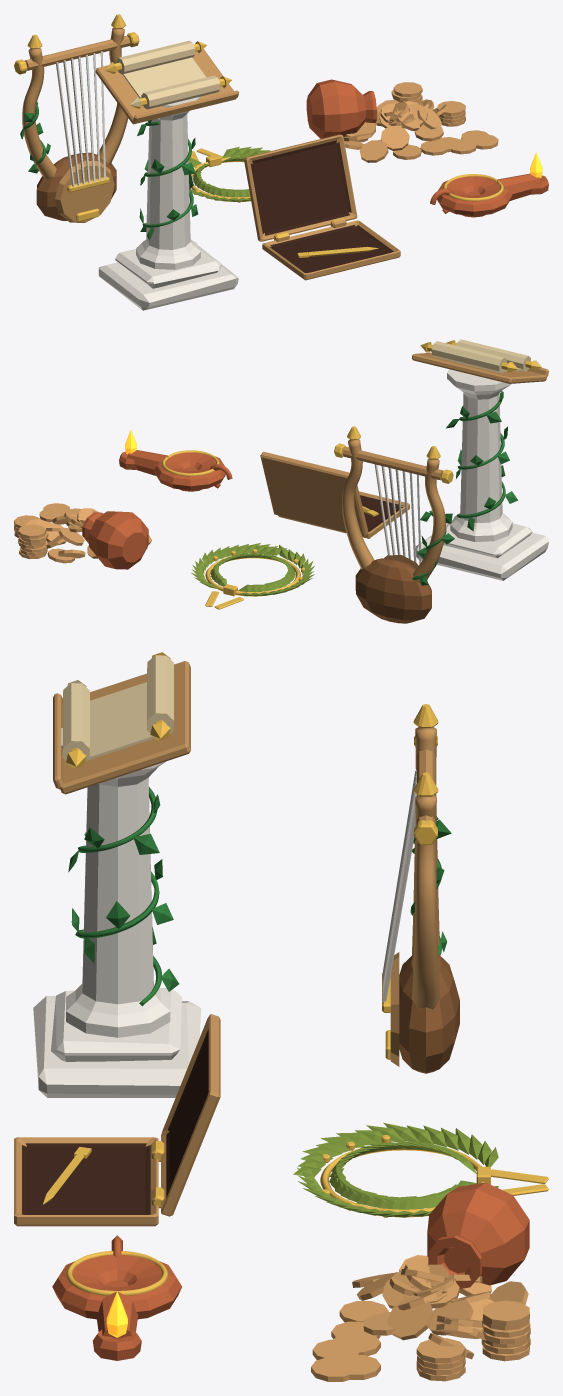
Rendered from ancient-greek-items-set.glb.
3 renders of one model, top to bottom at view 1: azimuth 30°, elevation 25°; view 2: azimuth 150°, elevation 25°; view 3: azimuth 270°, elevation 25°, orthographic. The views are drawn at different scales.
Parts seen in each view (by area): view 1: Lid, ScrollStand_Column, CoinPile_Coins, ScrollStand_Plinth, Scroll, WaxTablet_Base, CoinPile_Jar, OilLamp_Body, Strings, ScrollStand_Board, Lyre_Soundboard, Lyre_ArmL (+10 smaller); view 2: ScrollStand_Column, Lid, ScrollStand_Plinth, Lyre_SoundBox, CoinPile_Coins, CoinPile_Jar, LaurelWreath_Leaves, OilLamp_Body, Scroll, Strings, Lyre_ArmR, ScrollStand_Ivy (+9 smaller); view 3: CoinPile_Coins, ScrollStand_Column, WaxTablet_Base, ScrollStand_Plinth, CoinPile_Jar, Scroll, LaurelWreath_Leaves, OilLamp_Body, Lid, ScrollStand_Board, Lyre_SoundBox, Lyre_ArmR (+8 smaller).
Part boxes in pixels (x1,y1,x2,y2): Lid: (244, 134, 357, 241); ScrollStand_Column: (136, 96, 200, 269); CoinPile_Coins: (344, 82, 498, 162); ScrollStand_Plinth: (98, 245, 238, 310); Scroll: (104, 40, 231, 109); WaxTablet_Base: (262, 218, 400, 280); CoinPile_Jar: (306, 79, 376, 138); OilLamp_Body: (437, 173, 548, 217); Strings: (55, 51, 105, 187); ScrollStand_Board: (95, 49, 239, 124); Lyre_Soundboard: (55, 160, 114, 222); Lyre_ArmL: (22, 48, 56, 179); ScrollStand_Column: (447, 369, 512, 541); Lid: (260, 452, 368, 536); ScrollStand_Plinth: (415, 520, 548, 580); Lyre_SoundBox: (355, 558, 431, 623); CoinPile_Coins: (14, 503, 151, 563); CoinPile_Jar: (82, 511, 148, 569); LaurelWreath_Leaves: (191, 543, 314, 596); OilLamp_Body: (119, 450, 225, 491); Scroll: (420, 339, 541, 373); Strings: (374, 464, 421, 564); Lyre_ArmR: (342, 439, 374, 569); ScrollStand_Ivy: (446, 391, 518, 531); CoinPile_Coins: (311, 1255, 530, 1381); ScrollStand_Column: (61, 728, 170, 1037); WaxTablet_Base: (14, 1137, 164, 1226); ScrollStand_Plinth: (33, 988, 201, 1097); CoinPile_Jar: (427, 1182, 529, 1288); Scroll: (62, 652, 173, 768); LaurelWreath_Leaves: (293, 1122, 498, 1217); OilLamp_Body: (52, 1255, 182, 1360); Lid: (161, 1014, 220, 1216); ScrollStand_Board: (53, 661, 190, 794); Lyre_SoundBox: (399, 954, 459, 1073); Lyre_ArmR: (412, 795, 440, 1009).
Size of the model in its own units: 6.06 by 2.88 by 3.7.
